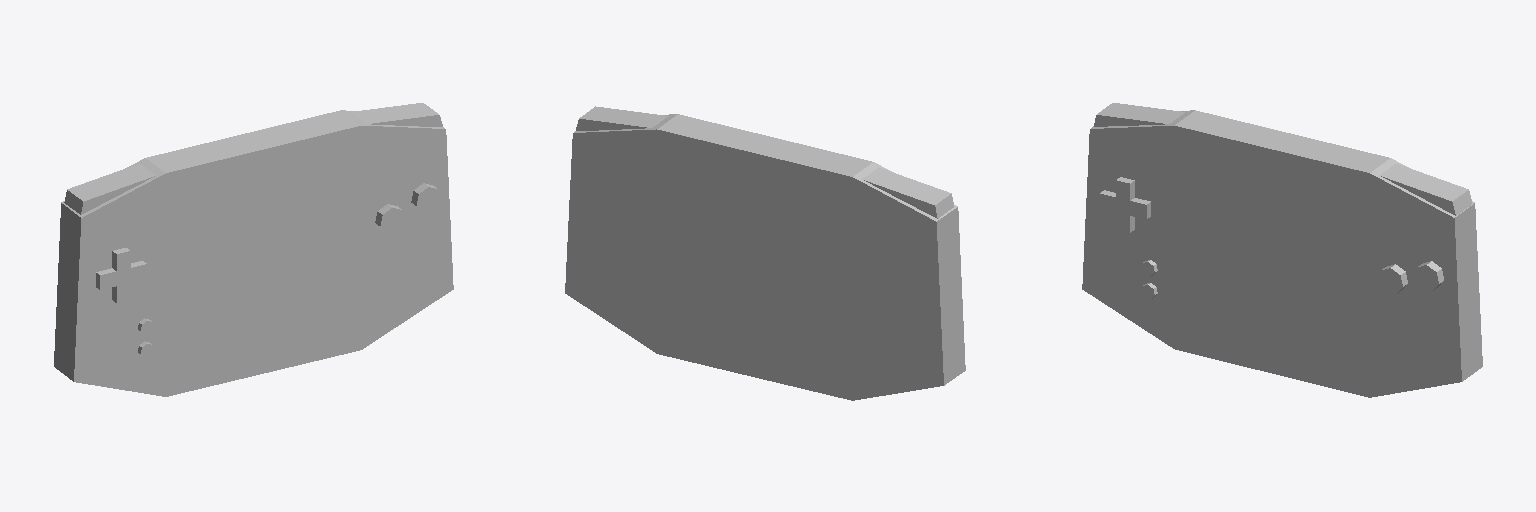
Rendered from gba.obj.
3 views of the same model, side by side, from view 1: azimuth 30°, elevation 25°; view 2: azimuth 150°, elevation 25°; view 3: azimuth 330°, elevation 25° (orthographic).
Parts seen in each view (by area): view 1: GBA_Cube; view 2: GBA_Cube; view 3: GBA_Cube.
Boxes of the visible parts, x1=… form: GBA_Cube: x1=54, y1=103, x2=453, y2=396; GBA_Cube: x1=565, y1=106, x2=965, y2=400; GBA_Cube: x1=1082, y1=103, x2=1482, y2=397.
Bounding box in the file's own units: 4.57 × 2.58 × 0.545.